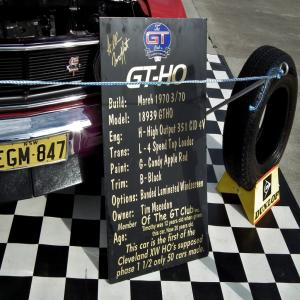Vehicle-registration-plate: (1, 135, 67, 171)
